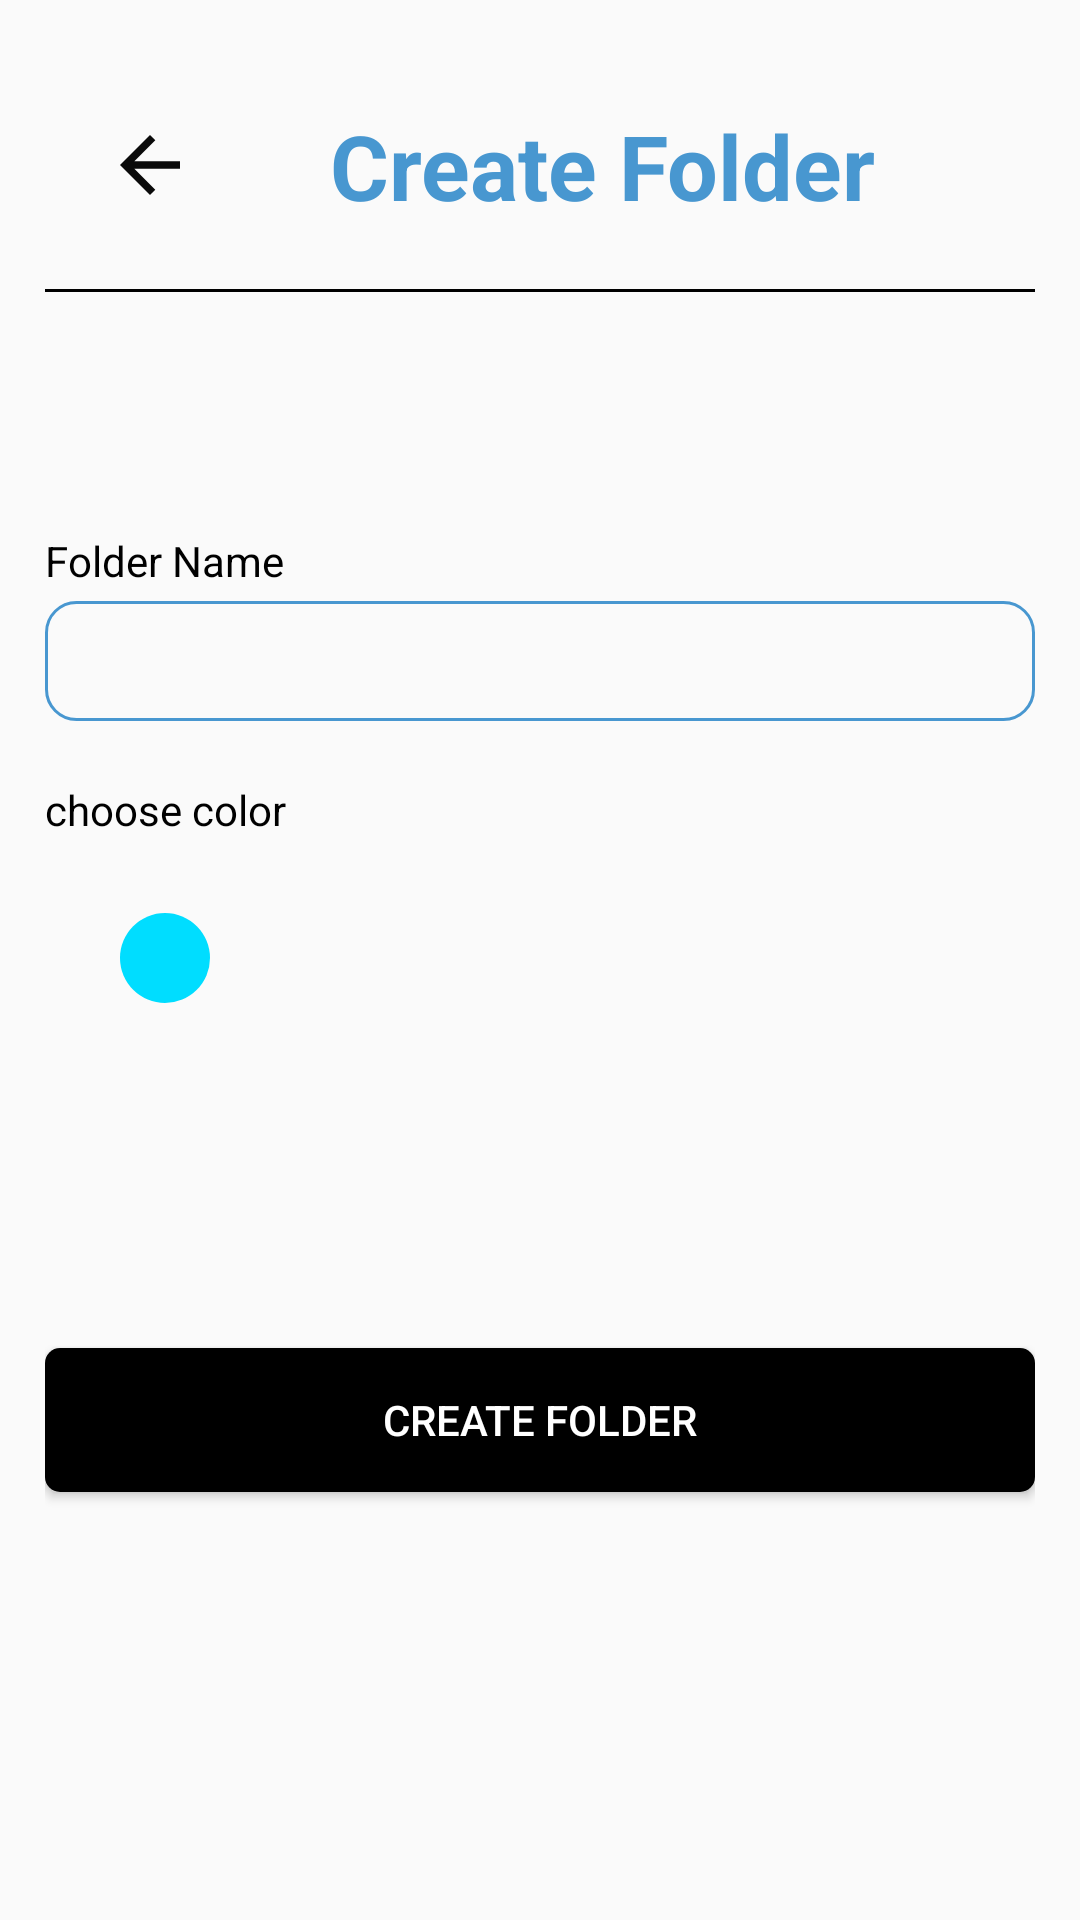

Where to tap for icons on this 1080px x 1920px app screen, as (x,y):
arrow back: (150,165)
